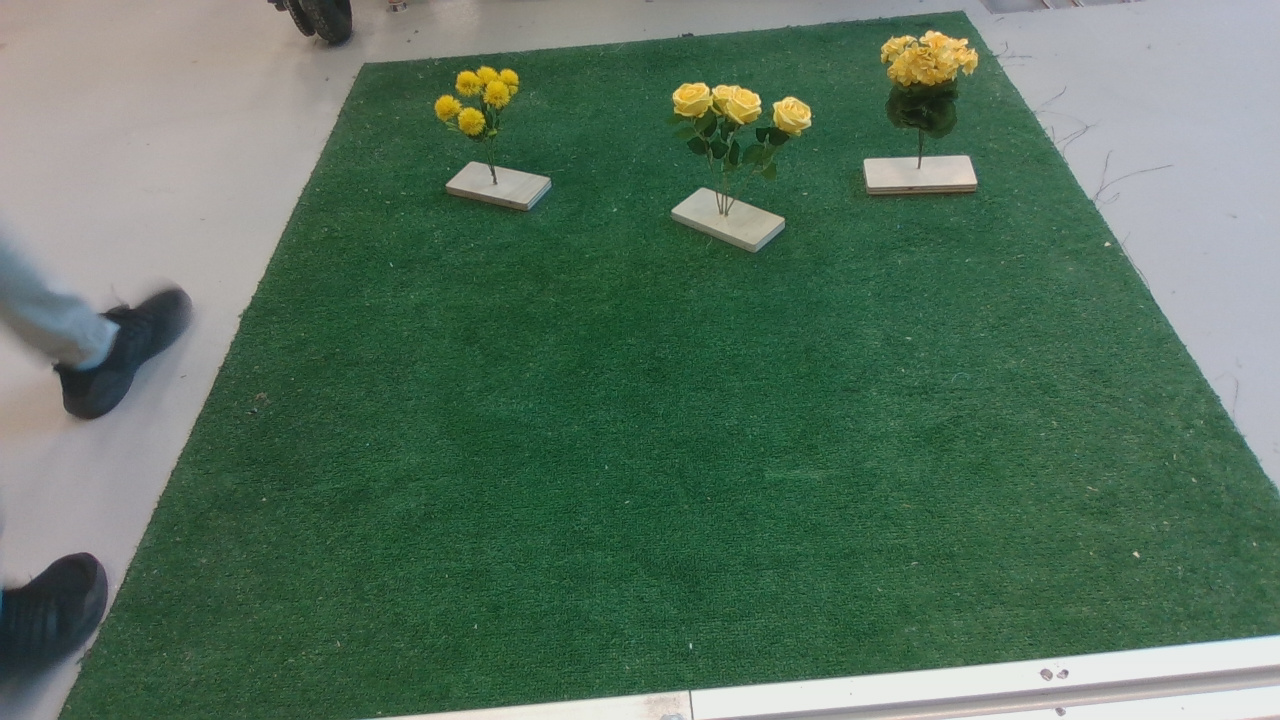dandelion: (431, 65, 535, 152)
geranium: (875, 27, 988, 148)
rose: (669, 78, 821, 192)
